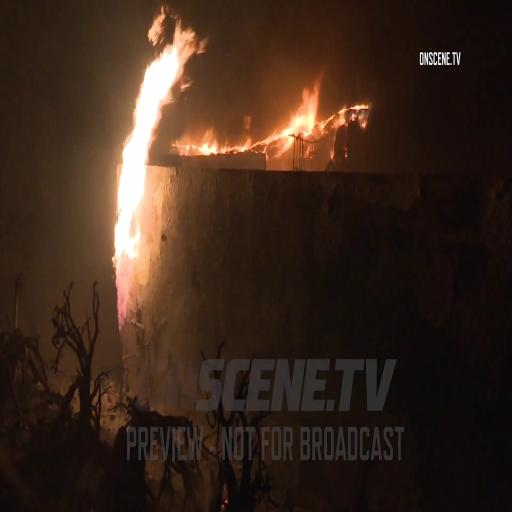fire: (116, 12, 192, 330), (264, 44, 320, 157)
